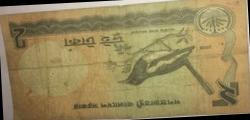2 taka: (0, 1, 247, 115)
